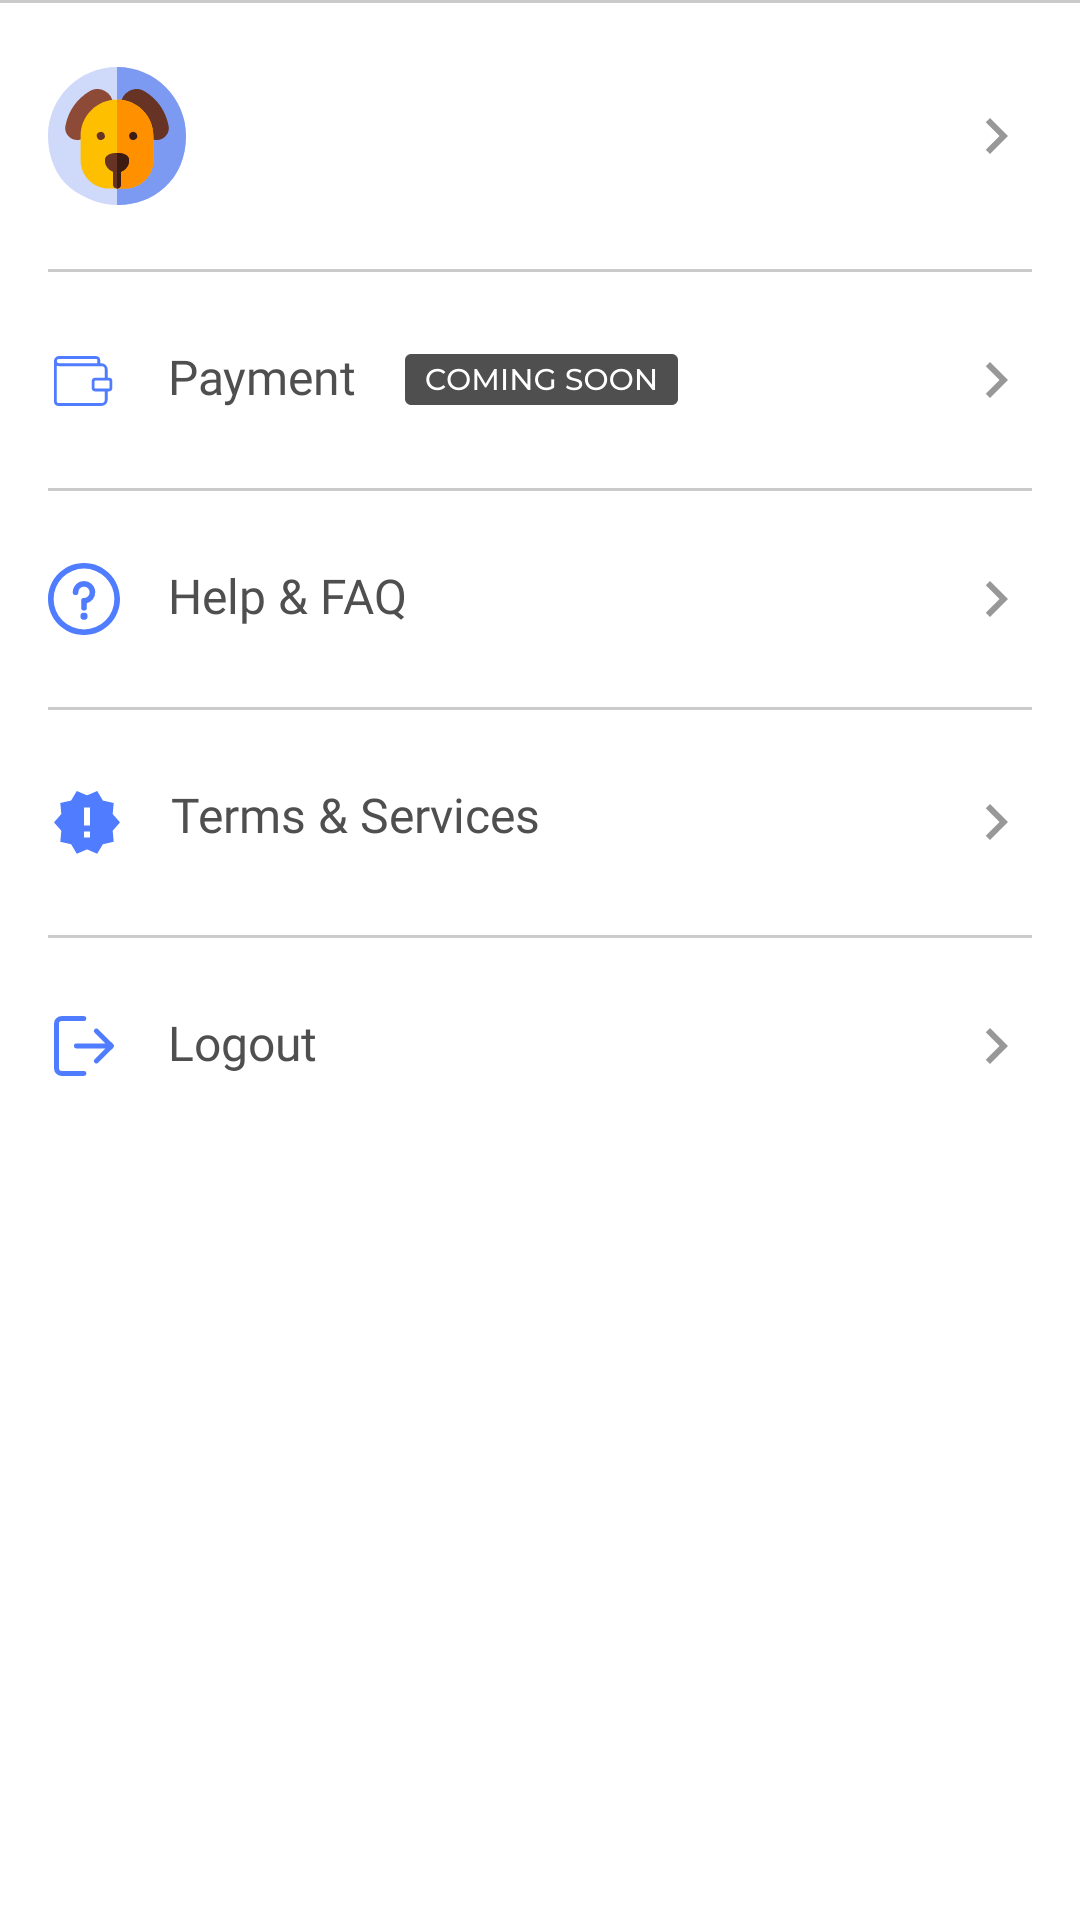

Where icons sit on this 1080 x 1920 app screen, as detection(x1, y1, x2, y2):
account picture: detection(48, 67, 186, 205)
